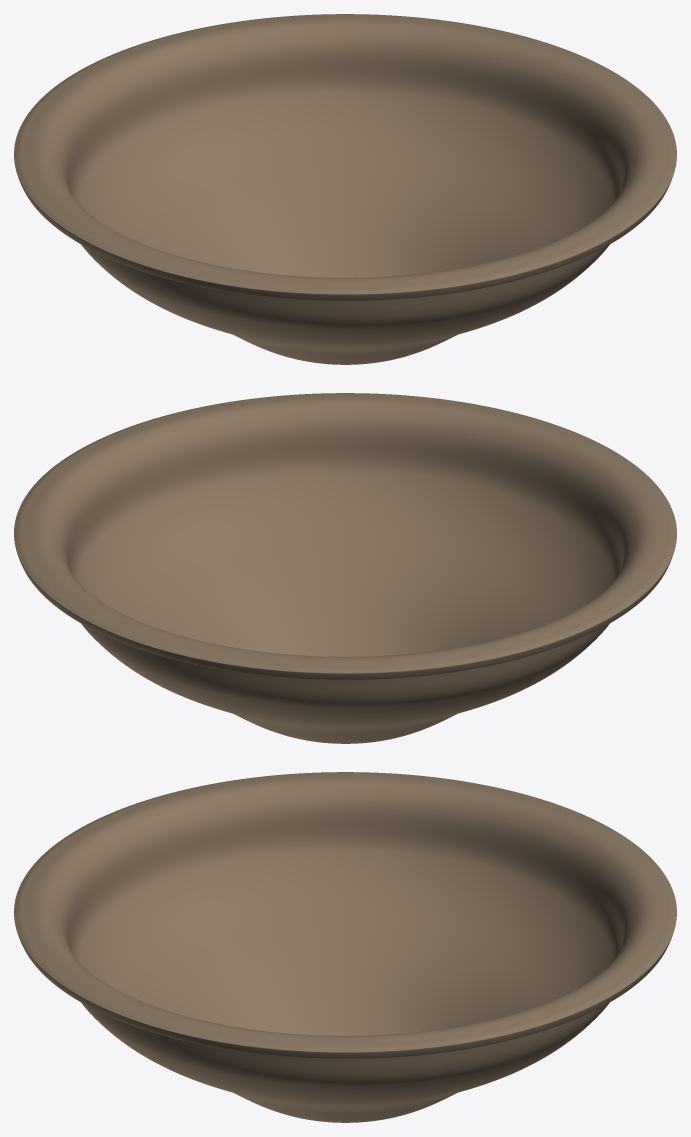
3 renders of one model, top to bottom at view 1: azimuth 30°, elevation 25°; view 2: azimuth 150°, elevation 25°; view 3: azimuth 270°, elevation 25°, orthographic.
Parts seen in each view (by area): view 1: SoupPlate; view 2: SoupPlate; view 3: SoupPlate.
Boxes of the visible parts, bbox=[...] form: SoupPlate: bbox=[14, 14, 676, 364]; SoupPlate: bbox=[14, 393, 676, 743]; SoupPlate: bbox=[14, 772, 676, 1122].
Bounding box in the file's own units: 0.2806 × 0.087 × 0.2806.
